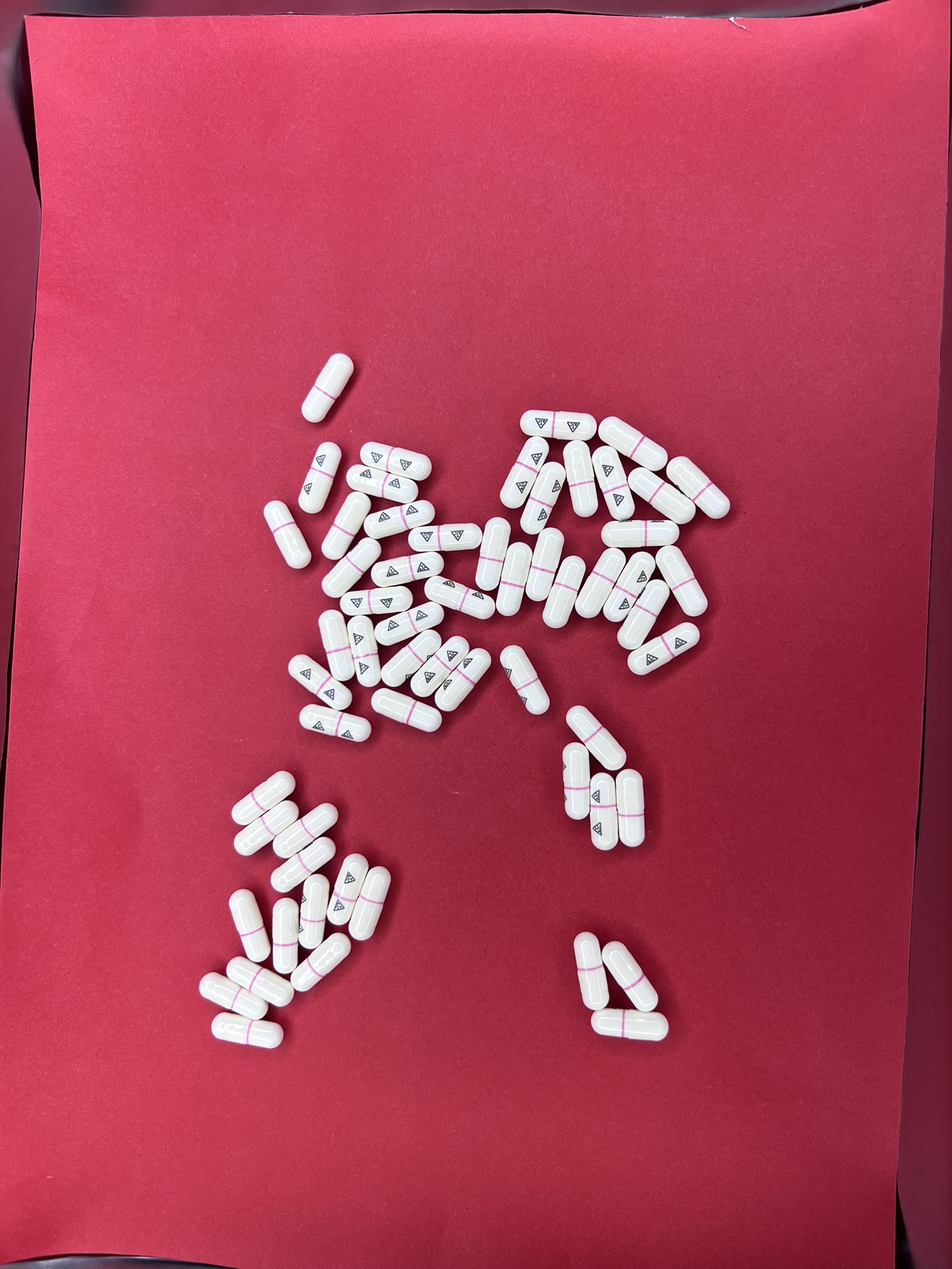Capsule: (666, 455, 733, 521), (601, 938, 658, 1014), (627, 622, 698, 679), (409, 635, 472, 699), (565, 707, 626, 773), (629, 466, 697, 525), (499, 435, 550, 513), (656, 543, 708, 619), (599, 416, 668, 473), (574, 545, 627, 619), (322, 536, 382, 600), (232, 768, 297, 827), (618, 578, 671, 650), (301, 352, 354, 423), (234, 799, 300, 856), (603, 550, 655, 622), (291, 933, 353, 993), (289, 653, 353, 711), (271, 803, 337, 859), (435, 646, 491, 712), (320, 491, 372, 562), (379, 629, 441, 688), (226, 955, 292, 1009), (264, 502, 313, 574), (522, 458, 567, 535), (501, 644, 549, 716), (271, 839, 334, 893), (228, 889, 272, 965), (373, 600, 444, 647), (349, 864, 392, 941), (543, 551, 586, 627), (344, 463, 421, 505), (298, 441, 342, 514), (425, 577, 495, 622), (371, 689, 442, 733), (328, 854, 370, 927), (591, 445, 632, 519), (199, 971, 263, 1018), (358, 441, 433, 481), (562, 441, 600, 519), (526, 527, 564, 604), (363, 500, 436, 540), (317, 610, 355, 684), (300, 703, 370, 743), (591, 1008, 671, 1043), (210, 1012, 283, 1050), (573, 930, 608, 1009), (369, 551, 445, 586), (477, 517, 511, 595), (338, 586, 413, 621), (521, 409, 597, 442), (497, 543, 532, 614), (347, 615, 381, 687), (603, 518, 679, 550), (615, 771, 646, 849), (298, 876, 330, 951), (409, 522, 484, 552), (562, 744, 591, 820), (590, 773, 618, 851), (272, 897, 300, 971)
